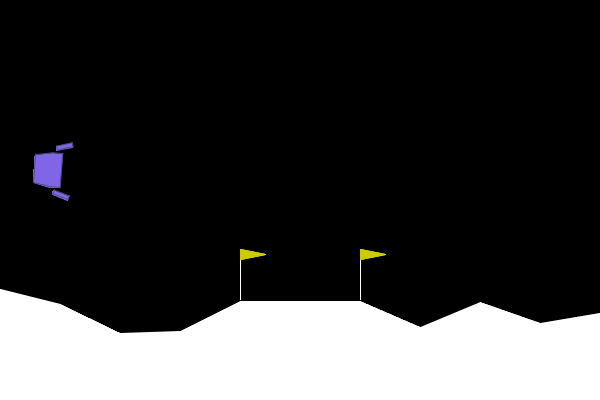lander: (30, 139, 74, 202)
